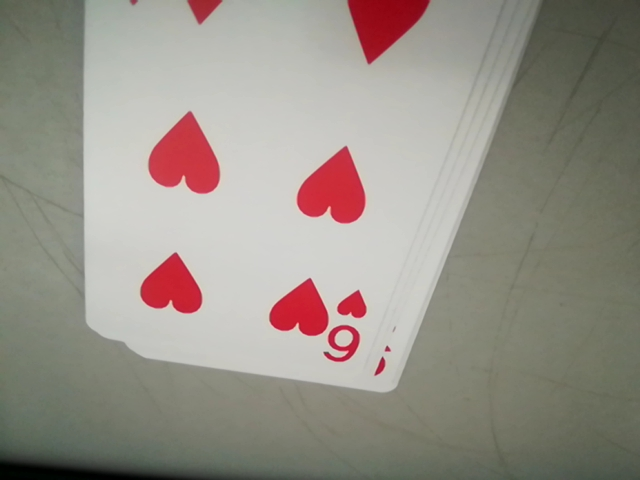hx 6: (325, 285, 366, 364)
